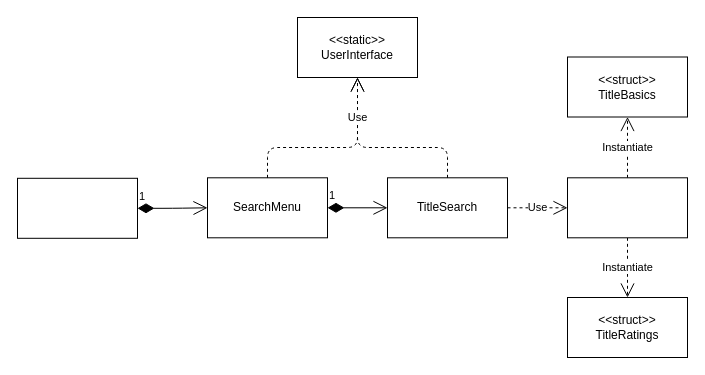
Image size: 705x375. Some labels were removed from this diagram. The shapes that lost their labels are listed below. From the top down, each one's box as (x1, y1, x2, y2) in pixels, then its label:
(16, 177, 138, 238): Program
(566, 177, 688, 238): <<static>> FileLoader
